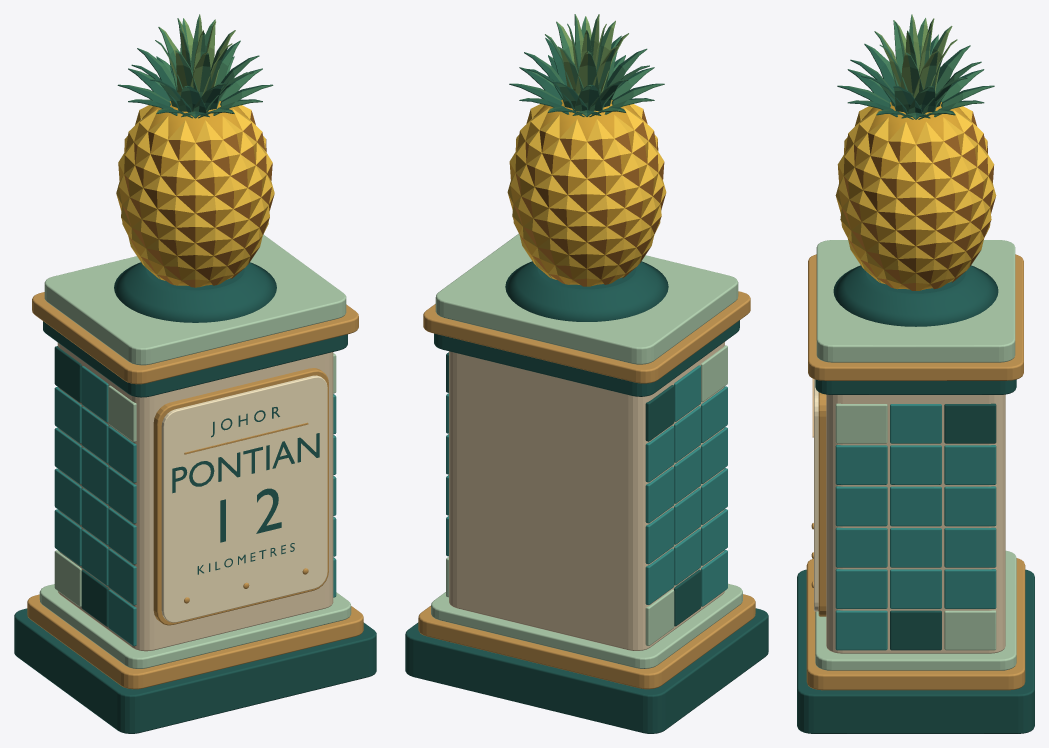
3 views of the same model, side by side, from view 1: azimuth 30°, elevation 25°; view 2: azimuth 150°, elevation 25°; view 3: azimuth 270°, elevation 25° (orthographic).
Parts seen in each view (by area): view 1: Masonry marker, Enamel face, Golden scales, Crown, Finial; view 2: Masonry marker, Golden scales, Crown, Finial; view 3: Masonry marker, Golden scales, Crown, Finial, Enamel face.
Part boxes in pixels (bbox=[...]): Masonry marker: bbox=[14, 234, 376, 733]; Enamel face: bbox=[153, 368, 328, 625]; Golden scales: bbox=[116, 105, 274, 287]; Crown: bbox=[117, 14, 273, 118]; Finial: bbox=[114, 101, 276, 322]; Masonry marker: bbox=[405, 233, 768, 733]; Golden scales: bbox=[507, 104, 666, 286]; Crown: bbox=[509, 14, 664, 116]; Finial: bbox=[505, 99, 668, 321]; Masonry marker: bbox=[797, 240, 1034, 733]; Golden scales: bbox=[835, 106, 996, 290]; Crown: bbox=[837, 14, 994, 119]; Finial: bbox=[833, 102, 998, 326]; Enamel face: bbox=[811, 379, 826, 616].
Size of the model in its own units: 0.62 by 1.48 by 0.49.
